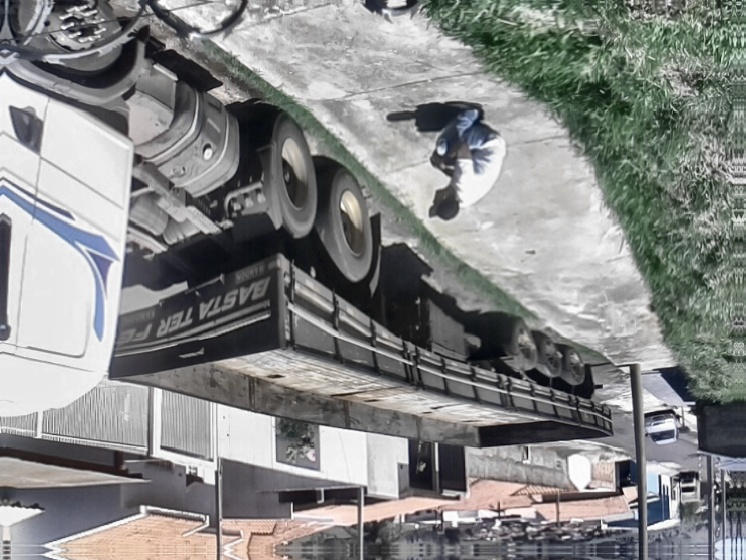person: (423, 101, 509, 223)
